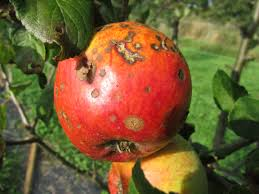damaged_apple: (57, 29, 190, 157), (106, 140, 207, 191)
